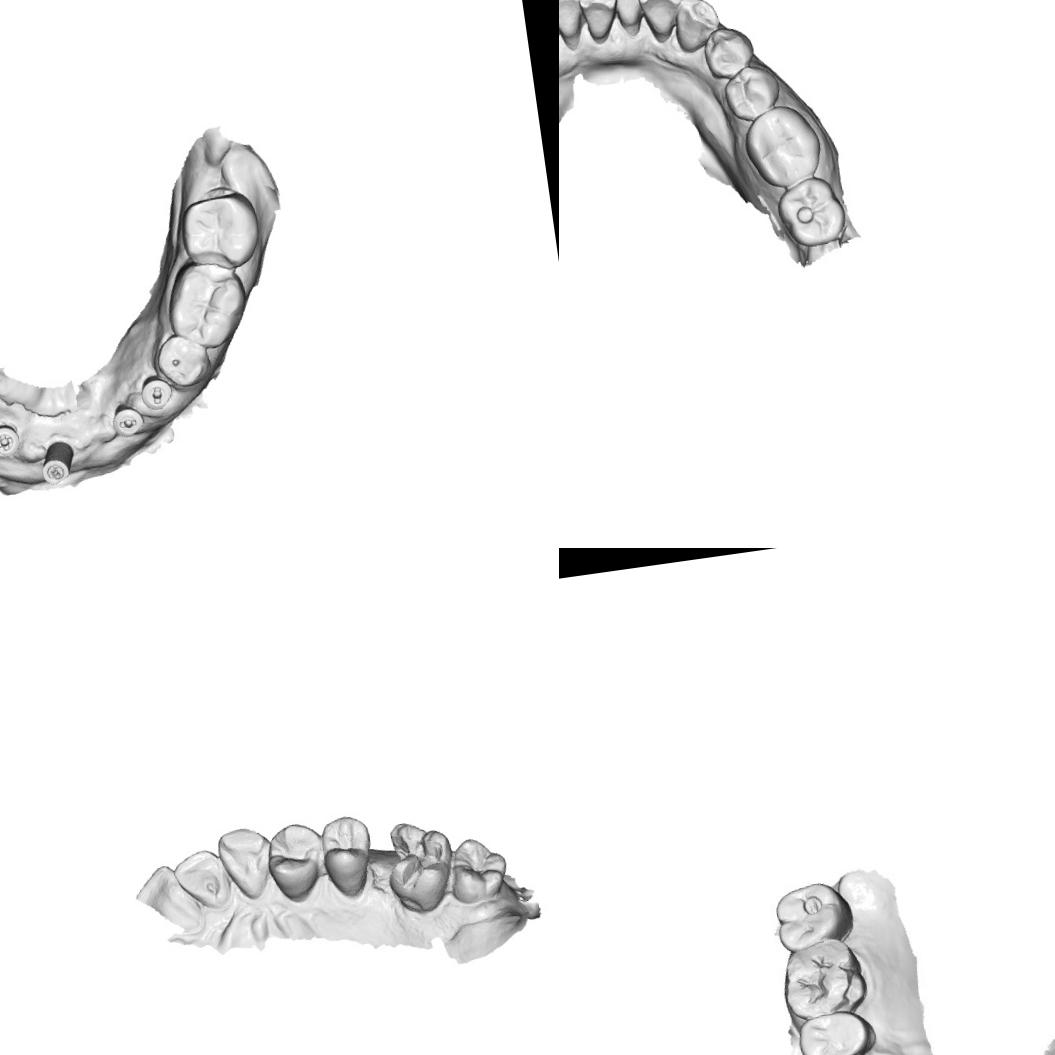canine: (214, 820, 282, 910), (670, 0, 724, 55)
implant: (32, 436, 82, 488)
implant_minus: (106, 400, 152, 442), (134, 371, 176, 416)
implant_plus: (0, 419, 25, 461)
incisor: (130, 860, 206, 951), (170, 845, 236, 924), (634, 0, 688, 45), (576, 0, 622, 44), (559, 0, 589, 54), (604, 0, 651, 33)
molar: (161, 256, 254, 358), (170, 187, 270, 278), (776, 934, 873, 1024), (739, 100, 826, 192), (379, 814, 457, 916), (768, 878, 858, 954), (773, 172, 849, 251), (444, 833, 515, 913)
premolar: (262, 819, 330, 910), (317, 813, 377, 898), (153, 330, 217, 393), (720, 62, 784, 125), (795, 1006, 877, 1055), (700, 22, 757, 82)
